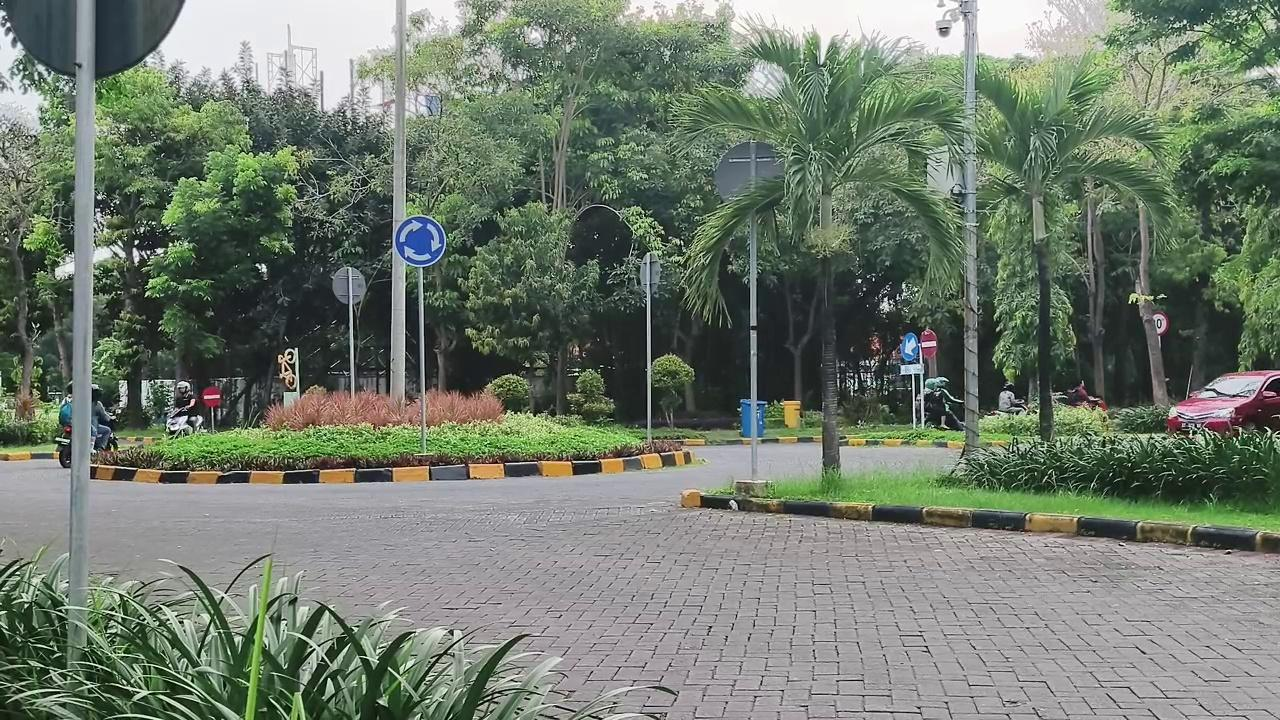Helmet: (91, 384, 113, 449), (171, 382, 196, 423)
Motor: (1053, 392, 1107, 411), (166, 411, 202, 438), (95, 420, 118, 451)
